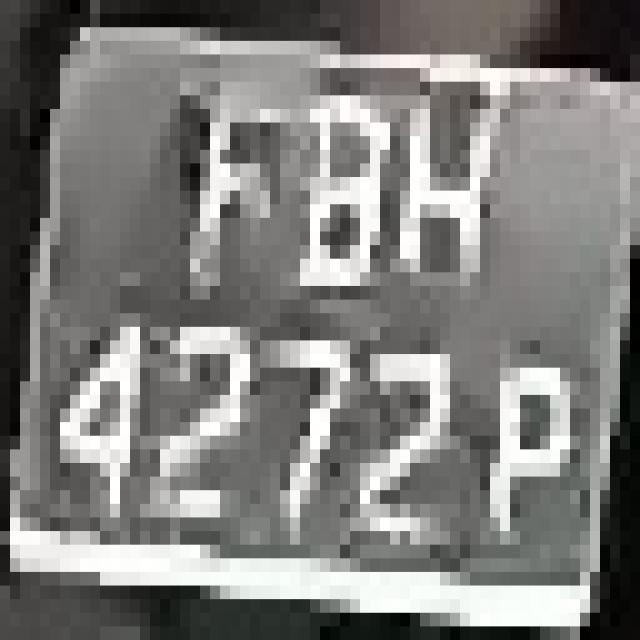2: (140, 259, 250, 558), (350, 300, 440, 599)
4: (40, 286, 150, 517)
7: (220, 272, 340, 518)
B: (260, 41, 400, 354)
F: (170, 41, 280, 299)
H: (390, 95, 500, 327)
P: (450, 286, 570, 572)
